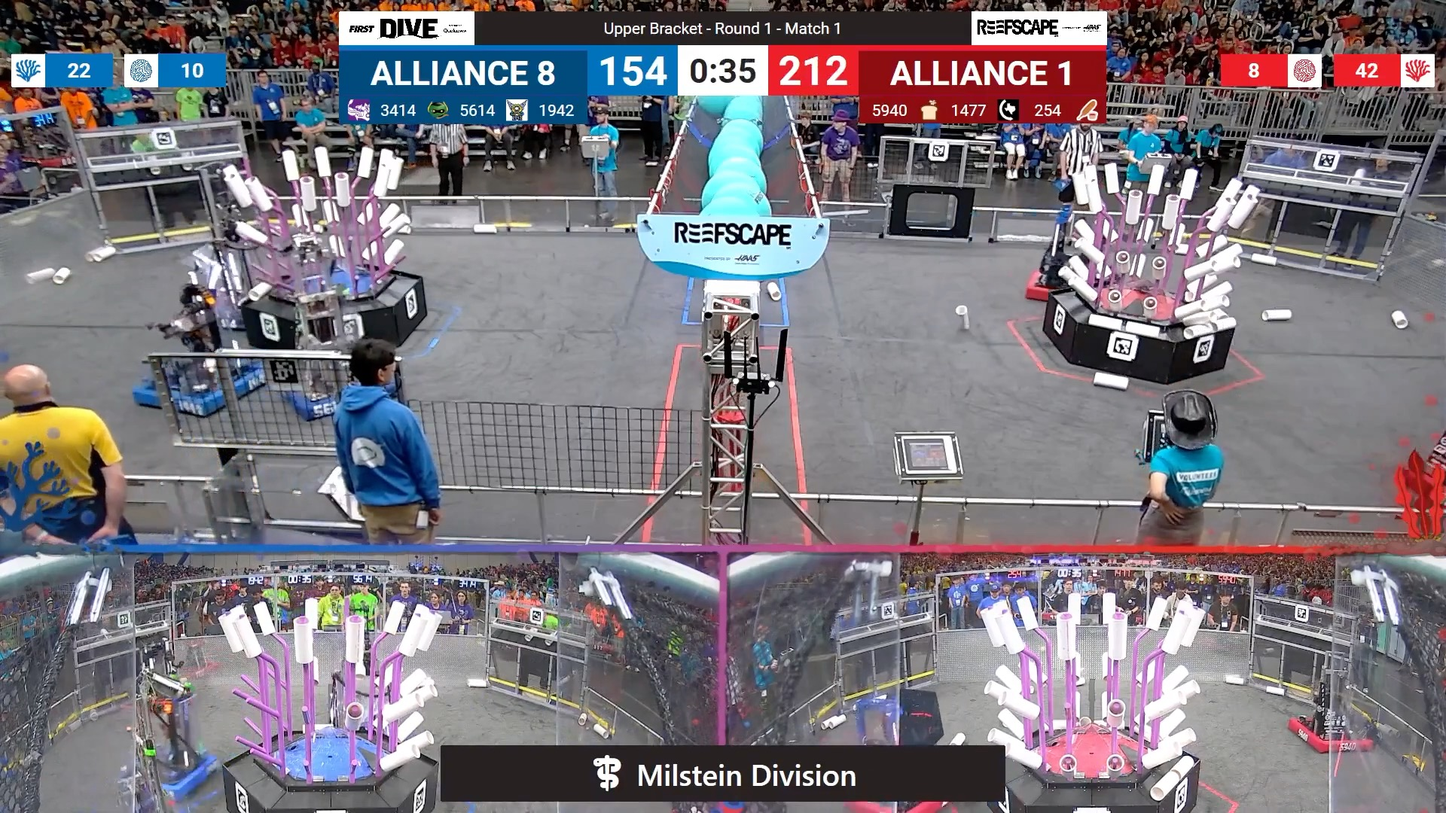bumpers: (123, 359, 275, 417), (114, 751, 230, 804), (1277, 712, 1377, 761), (1020, 263, 1075, 305), (834, 797, 955, 813)
